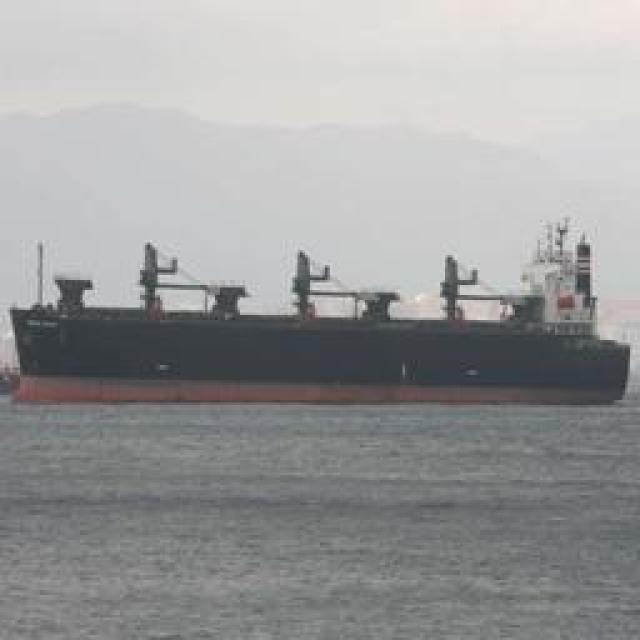Ship: (9, 236, 634, 409)
